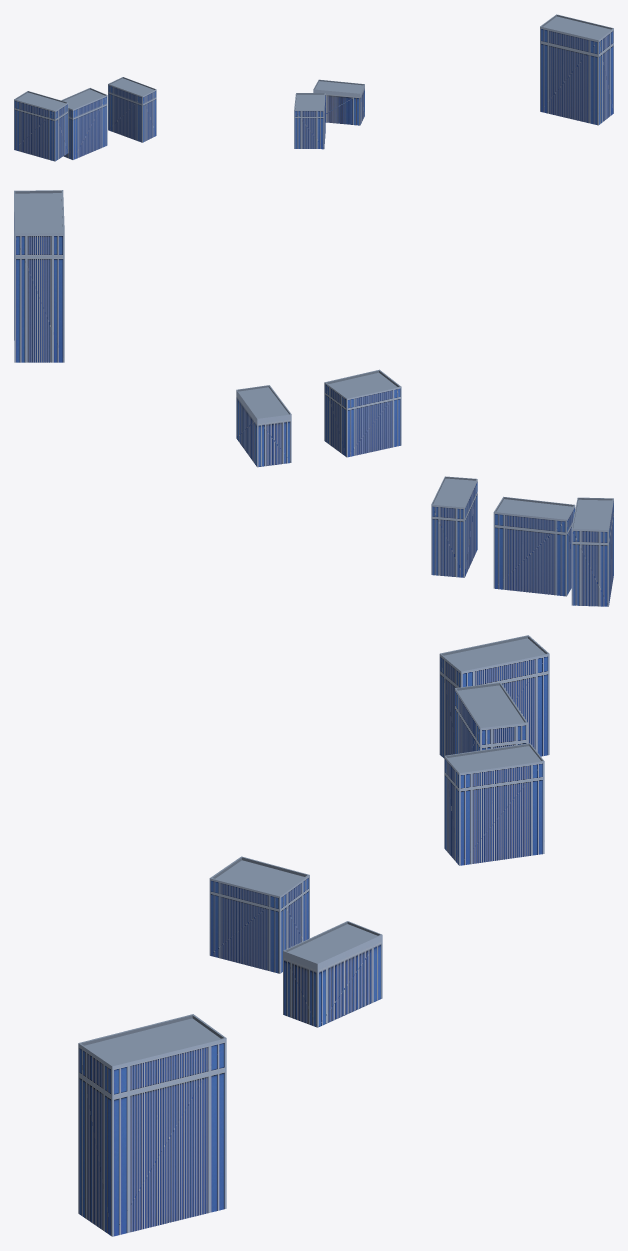
The model's file is Building_B.gltf.
3 renders of one model, top to bottom at view 1: azimuth 30°, elevation 25°; view 2: azimuth 150°, elevation 25°; view 3: azimuth 270°, elevation 25°, orthographic. The views are drawn at different scales.
Parts seen in each view (by area): view 1: Building_B; view 2: Building_B; view 3: Building_B.
Boxes of the visible parts, bbox=[...] form: Building_B: bbox=[14, 14, 613, 161]; Building_B: bbox=[14, 190, 613, 606]; Building_B: bbox=[78, 635, 549, 1236].
Size of the model in its own units: 13.11 by 2.15 by 5.4.
1 material, 1 textured.
